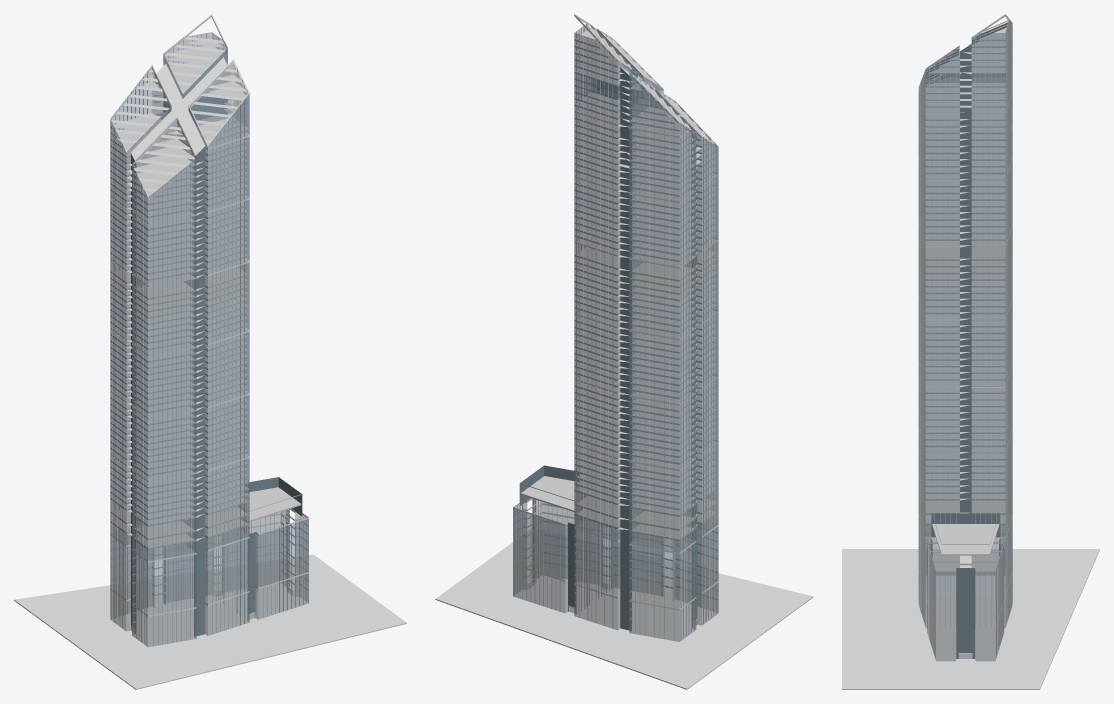
Rendered from 2wtc_obj.gltf.
3 renders of one model, left to right at view 1: azimuth 30°, elevation 25°; view 2: azimuth 150°, elevation 25°; view 3: azimuth 270°, elevation 25°, orthographic. The views are drawn at different scales.
Visible parts, largest first — view 1: floor_1, base, lattice, glass_54, glass_65, roof_louvers, glass_66, glass_67, roof_top, glass_53, glass_55, glass2_12 (+42 smaller); view 2: floor_1, lattice, base, glass_50, glass_30, glass_121, glass_51, glass_49, glass_29, glass_31, glass2_12, glass_60 (+42 smaller); view 3: floor_1, base, lattice, glass_34, glass_27, glass_121, glass2_11, glass2_9, glass_26, glass_33, glass_28, glass_35 (+26 smaller).
Part boxes in pixels (bbox=[...]): floor_1: bbox=[110, 38, 308, 625]; base: bbox=[14, 554, 406, 689]; lattice: bbox=[112, 33, 307, 645]; glass_54: bbox=[208, 332, 249, 469]; glass_65: bbox=[148, 158, 196, 480]; roof_louvers: bbox=[111, 36, 247, 197]; glass_66: bbox=[148, 348, 196, 417]; glass_67: bbox=[148, 216, 196, 285]; roof_top: bbox=[131, 57, 228, 163]; glass_53: bbox=[208, 137, 249, 211]; glass_55: bbox=[208, 200, 249, 274]; glass2_12: bbox=[194, 304, 205, 550]; floor_1: bbox=[513, 30, 718, 619]; lattice: bbox=[514, 23, 716, 640]; base: bbox=[435, 528, 813, 689]; glass_50: bbox=[629, 332, 679, 469]; glass_30: bbox=[574, 315, 617, 457]; glass_121: bbox=[574, 24, 617, 124]; glass_51: bbox=[629, 195, 679, 266]; glass_49: bbox=[629, 129, 679, 201]; glass_29: bbox=[574, 113, 617, 189]; glass_31: bbox=[574, 178, 617, 255]; glass2_12: bbox=[620, 286, 631, 541]; glass_60: bbox=[679, 329, 696, 468]; floor_1: bbox=[919, 27, 1012, 619]; base: bbox=[842, 549, 1099, 689]; lattice: bbox=[919, 20, 1011, 660]; glass_34: bbox=[925, 321, 959, 452]; glass_27: bbox=[971, 321, 1005, 452]; glass_121: bbox=[971, 20, 1012, 112]; glass2_11: bbox=[960, 277, 971, 513]; glass2_9: bbox=[960, 44, 971, 276]; glass_26: bbox=[971, 114, 1005, 179]; glass_33: bbox=[925, 114, 959, 179]; glass_28: bbox=[971, 181, 1005, 245]; glass_35: bbox=[925, 181, 959, 245].
Bounding box in the file's own units: 189 × 388 × 147.
